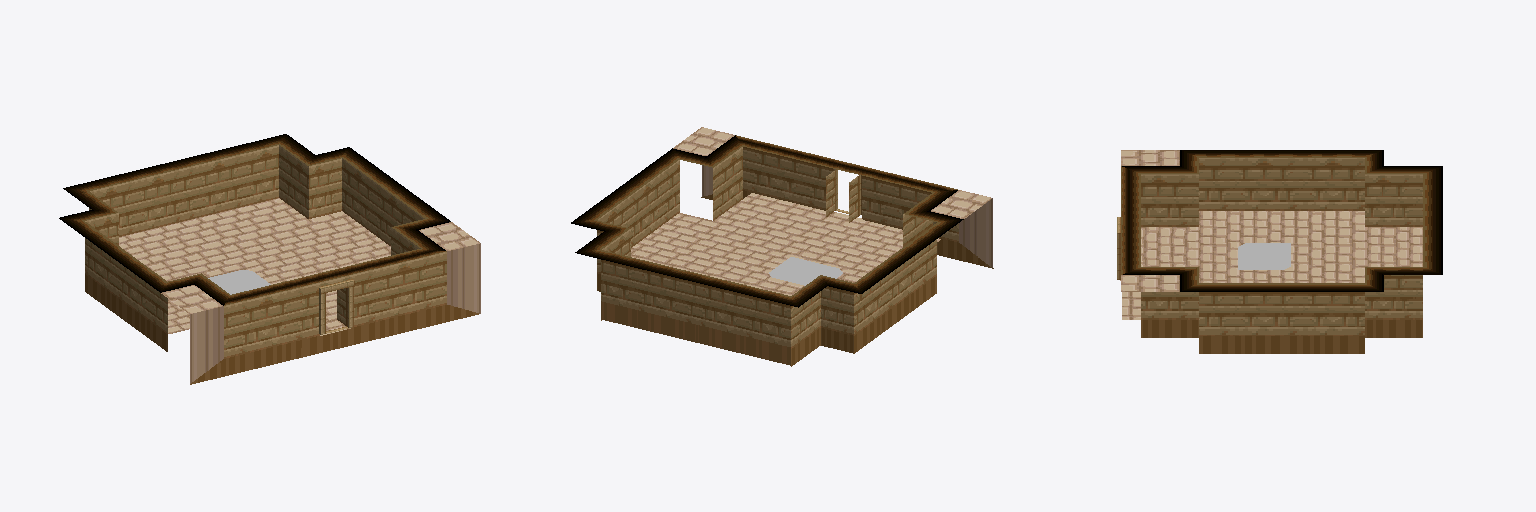
3 renders of one model, left to right at view 1: azimuth 30°, elevation 25°; view 2: azimuth 150°, elevation 25°; view 3: azimuth 270°, elevation 25°, orthographic.
Visible parts, largest first — view 1: polygon1, polygon2, polygon0, polygon3, polygon4; view 2: polygon1, polygon2, polygon0, polygon4; view 3: polygon1, polygon2, polygon0, polygon4.
Part boxes in pixels (x1,y1,x2,y2): polygon1: (85, 145, 478, 384); polygon2: (119, 198, 480, 383); polygon0: (59, 134, 450, 305); polygon3: (319, 279, 353, 334); polygon4: (208, 270, 270, 294); polygon1: (597, 147, 993, 366); polygon2: (631, 127, 992, 295); polygon0: (571, 135, 963, 307); polygon4: (769, 257, 842, 285); polygon1: (1141, 158, 1422, 353); polygon2: (1120, 150, 1422, 319); polygon0: (1121, 150, 1442, 291); polygon4: (1238, 243, 1290, 269).
Size of the model in its own units: 8.69 by 2 by 8.35.
Materials: 5 (4 with a texture image).